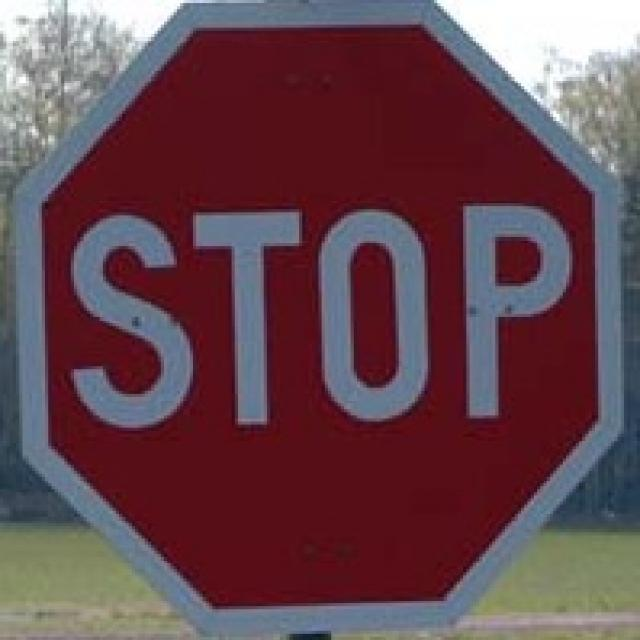Stop-Sign: (48, 25, 608, 610)
